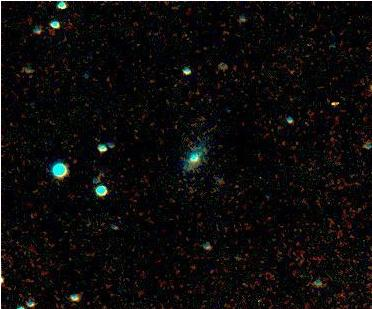star: (319, 87, 349, 117)
